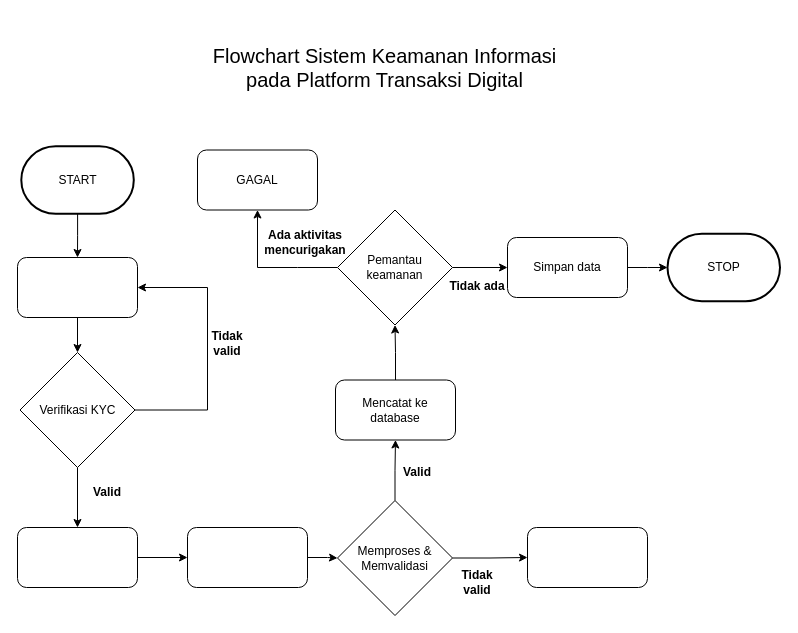
Image size: 798x633. Some labels were removed from this diagram. Each missing label, with the box of its shape:
ERROR: (526, 526, 648, 588)
Input jumlah uang yang akan di transfer: (186, 526, 308, 588)
Input Nomor&OTP: (16, 256, 138, 318)
Pilih Jenis Transaksi: (16, 526, 138, 588)
